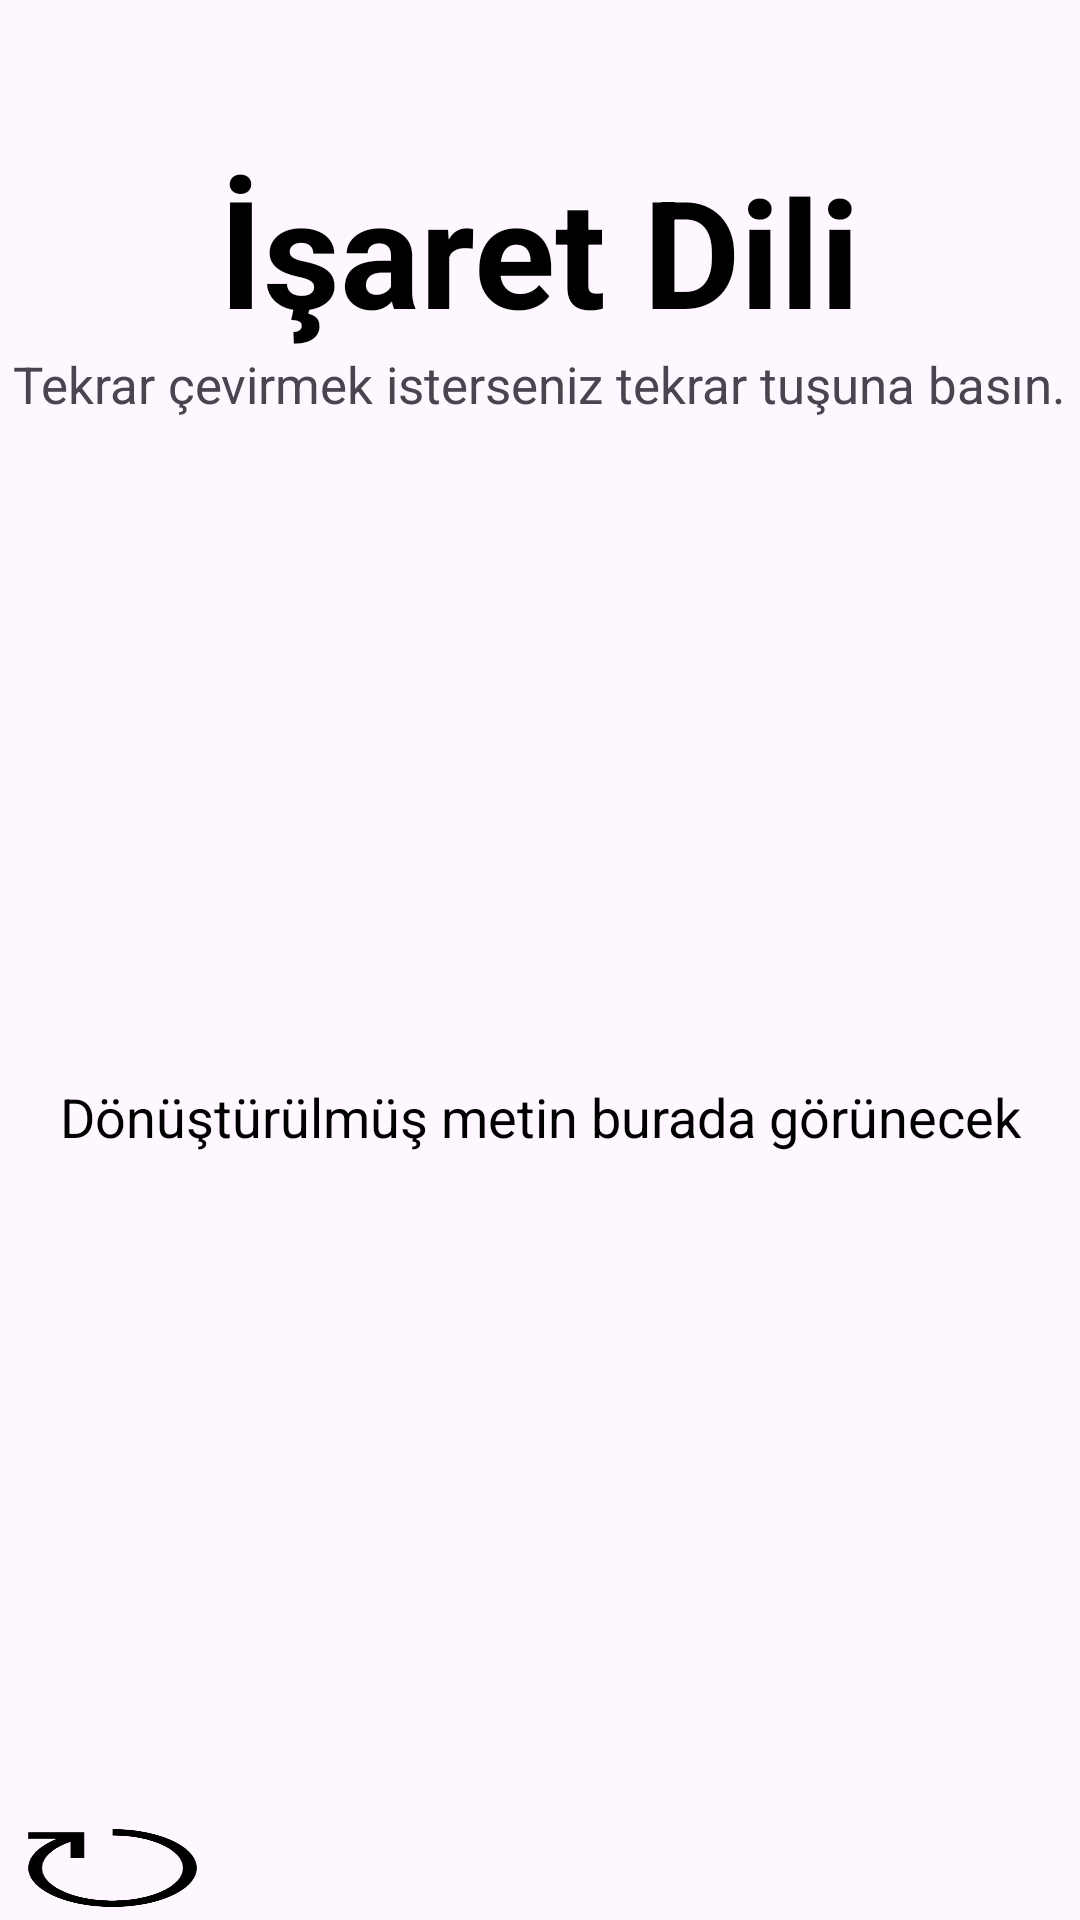

Where icons sit on this 1080w x 1920h app screen, as bbox=[x1, y1, x2, y2]:
resetbutton: bbox=[28, 1829, 197, 1907]
